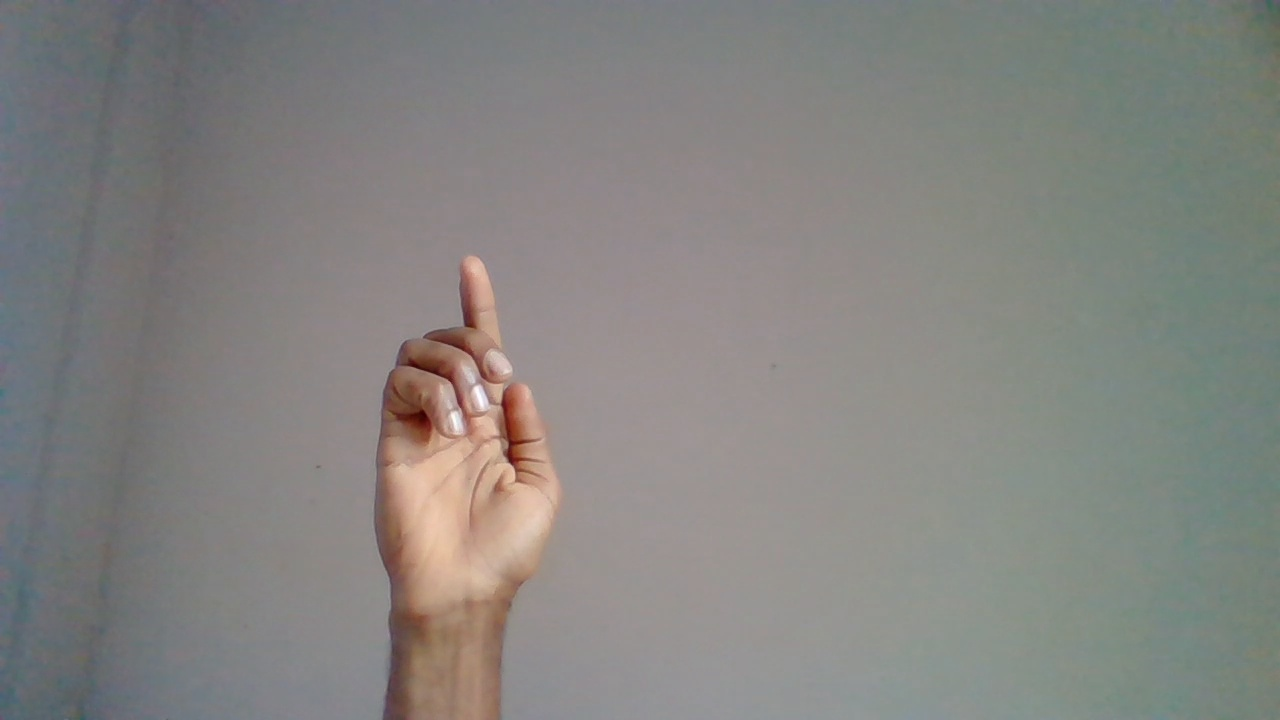qe: (370, 247, 569, 691)
